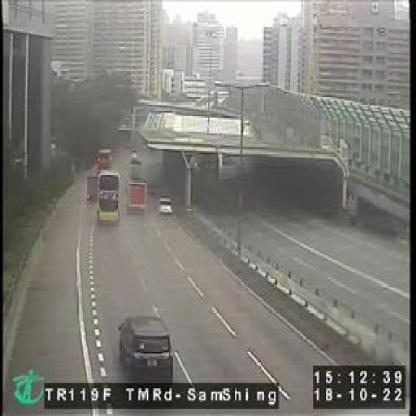Bus: (94, 168, 123, 228), (96, 148, 113, 171)
Car: (114, 315, 174, 384), (157, 194, 175, 216)
Truck: (126, 179, 148, 215)
